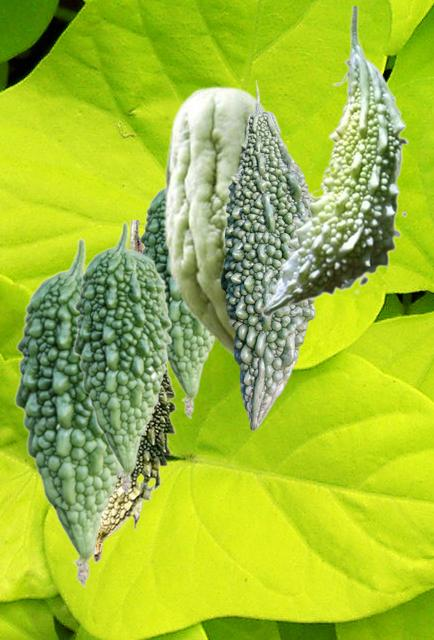ampalaya: (260, 6, 408, 317), (13, 237, 121, 587), (220, 80, 315, 430), (163, 85, 266, 369), (92, 220, 176, 563), (72, 221, 171, 494), (137, 187, 214, 418)
